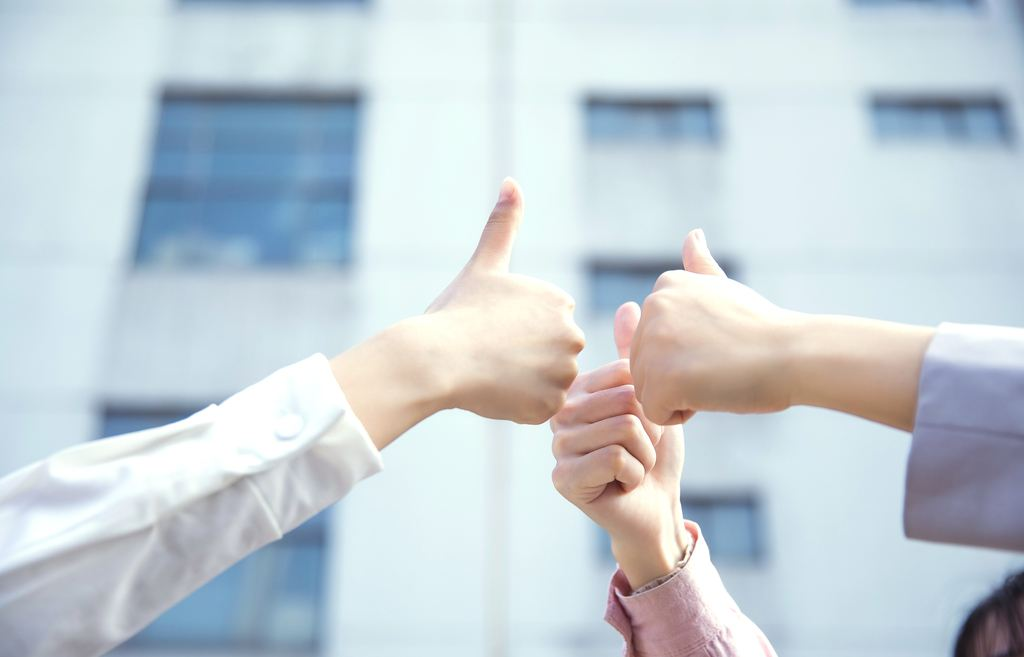no-phone: (411, 174, 582, 429), (626, 222, 798, 431), (546, 294, 690, 532)
